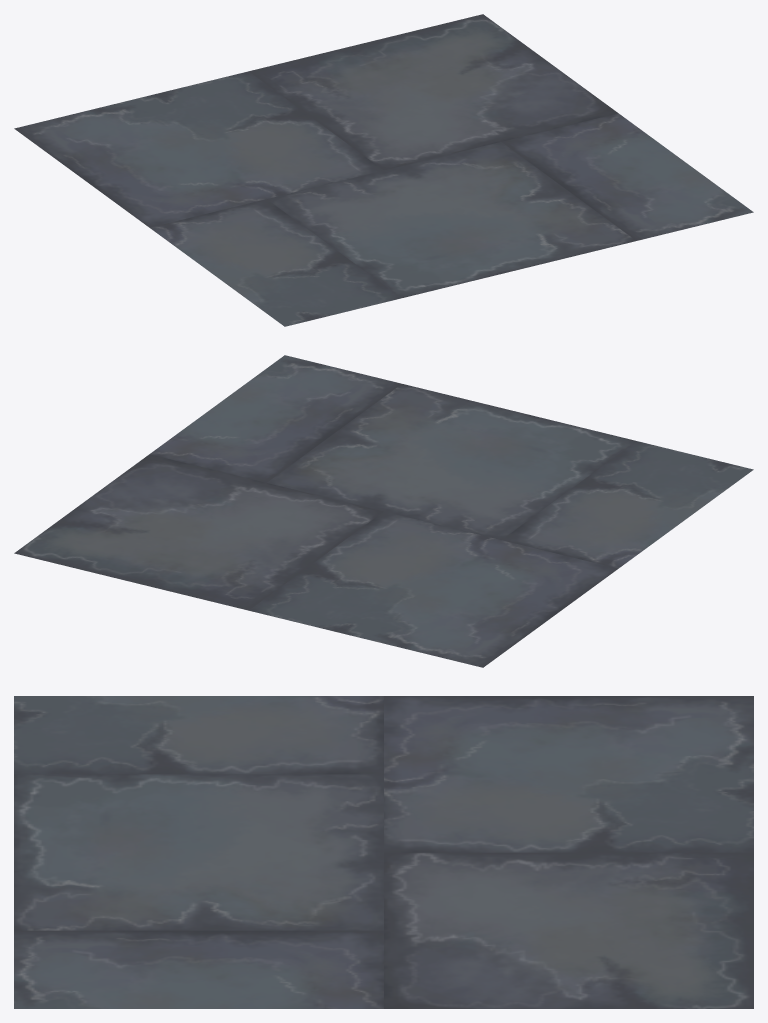
File: Castle Ground X Dark 2x2.fbx
The picture shows the model from 3 angles, top to bottom: view 1: azimuth 30°, elevation 25°; view 2: azimuth 150°, elevation 25°; view 3: azimuth 270°, elevation 25°; orthographic projection. The views are drawn at different scales.
Parts seen in each view (by area): view 1: Castle Ground X Dark 2x2; view 2: Castle Ground X Dark 2x2; view 3: Castle Ground X Dark 2x2.
Boxes of the visible parts, x1=… form: Castle Ground X Dark 2x2: x1=14, y1=14, x2=753, y2=326; Castle Ground X Dark 2x2: x1=14, y1=355, x2=753, y2=667; Castle Ground X Dark 2x2: x1=14, y1=696, x2=753, y2=1008.
Size of the model in its own units: 1.5 by 1.04e-06 by 1.5.
